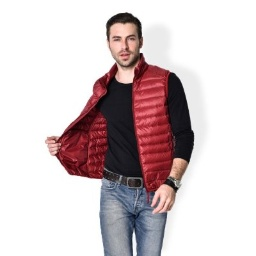face: (103, 9, 146, 67)
